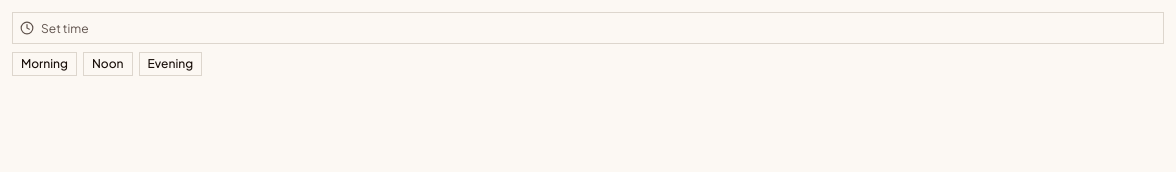
Test case: TimePicker › Input Behavior › formats time with leading zeros on blur
Type "9:5" into the field with test id "time-picker-input" at [588, 28], box [12, 12, 1164, 44]
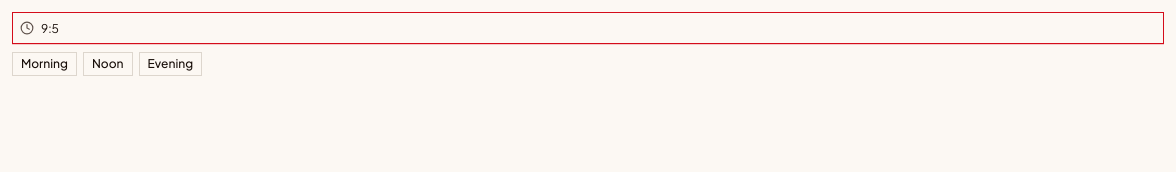
# Type valid format first
Replace the text in the field with test id "time-picker-input" with "9:05" at [588, 28], box [12, 12, 1164, 44]
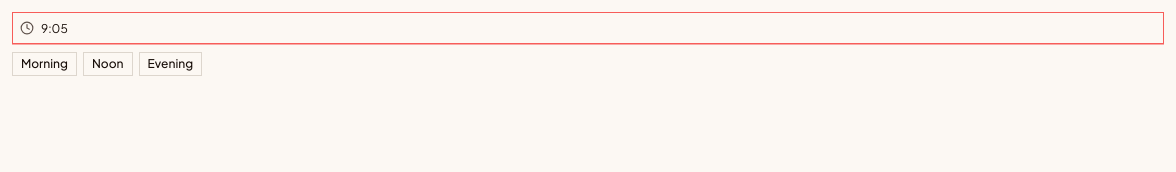
Press Tab
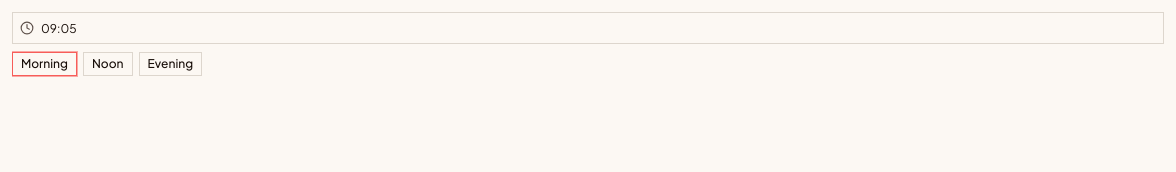
Result: the field with test id "time-picker-input" holds "09:05" at [12, 12, 1164, 44]
